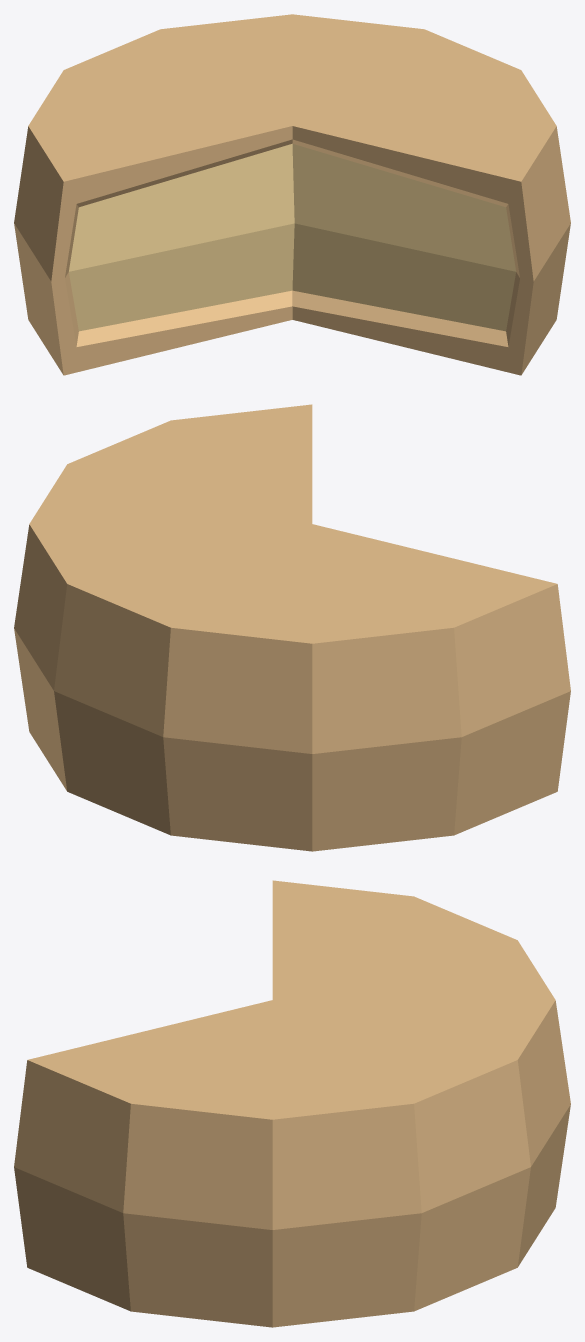
The model's file is LPFood_CutCheeseWheel.fbx.
3 views of the same model, one above another, from view 1: azimuth 30°, elevation 25°; view 2: azimuth 150°, elevation 25°; view 3: azimuth 270°, elevation 25° (orthographic). The views are drawn at different scales.
Parts seen in each view (by area): view 1: CutCheeseWheel; view 2: CutCheeseWheel; view 3: CutCheeseWheel.
Part boxes in pixels (x1,y1,x2,y2): CutCheeseWheel: (14,14,570,375); CutCheeseWheel: (14,404,570,851); CutCheeseWheel: (14,880,570,1327).
Size of the model in its own units: 12.53 by 4.81 by 11.69.
